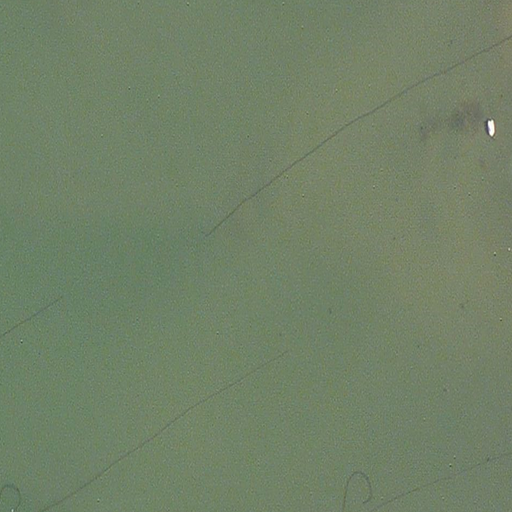ship: (486, 118, 497, 139)
